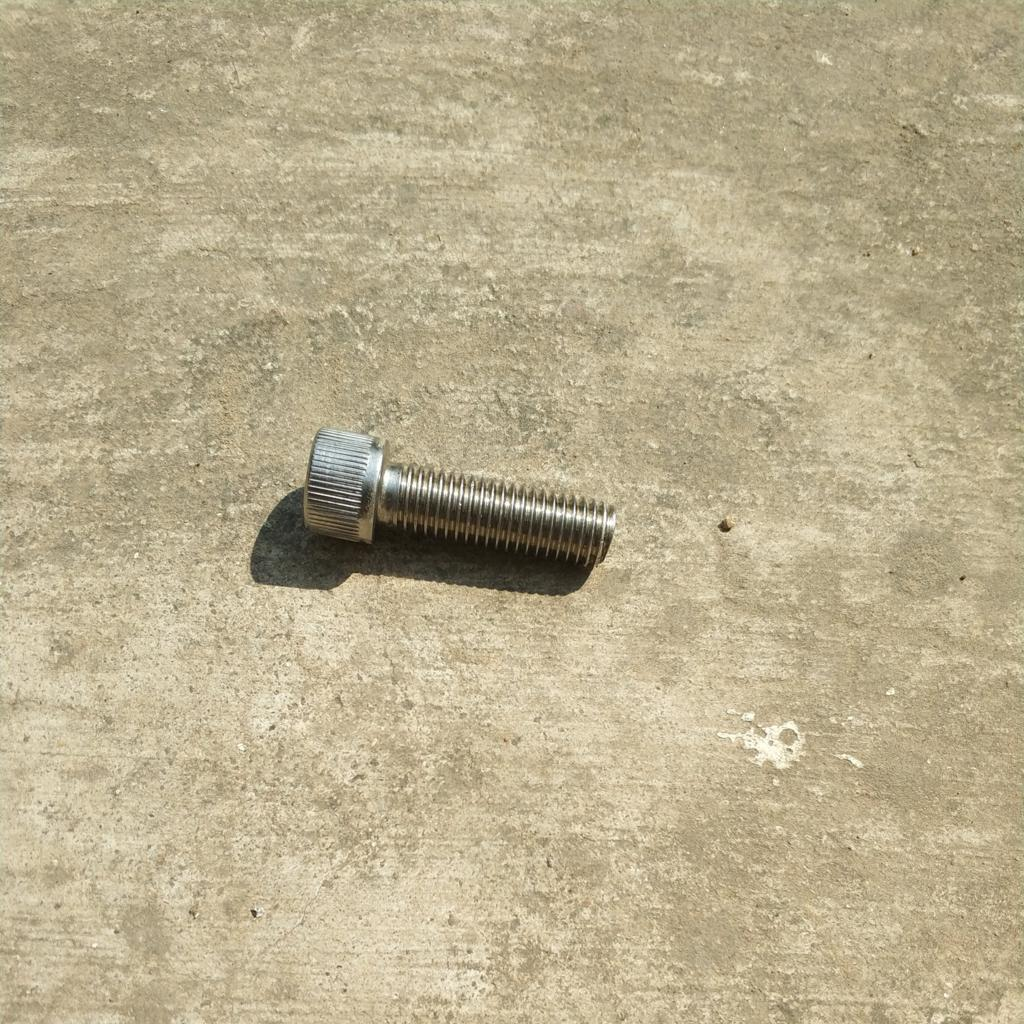screwtype1silver: (297, 423, 618, 583)
